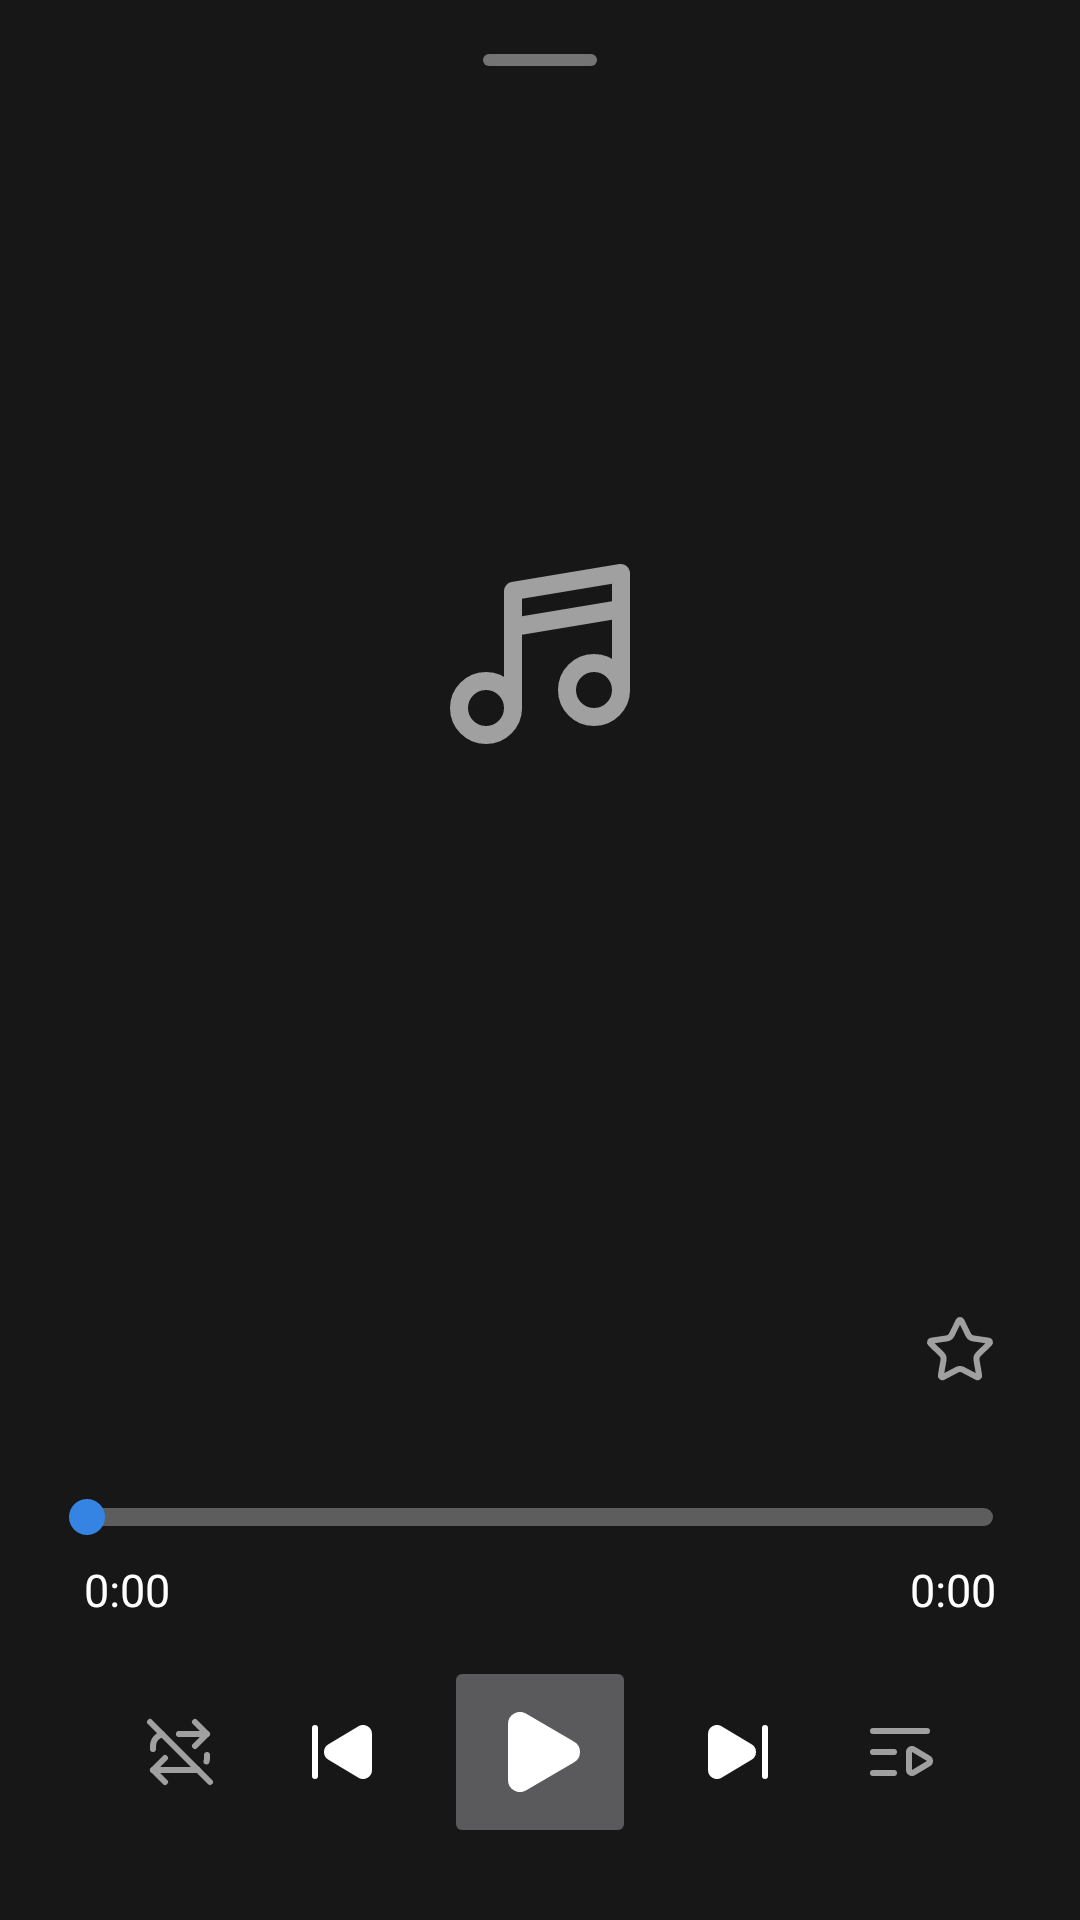

Where icons sit on this 1080px x 1920px app screen, as (x1, y1, x2, y2):
Favourite: (927, 1317, 993, 1381)
Next: (708, 1725, 768, 1779)
Play: (456, 1674, 624, 1830)
Playback mode: (147, 1719, 213, 1785)
Previous: (312, 1725, 372, 1779)
Queue: (870, 1728, 933, 1776)
track: (450, 564, 630, 744)
